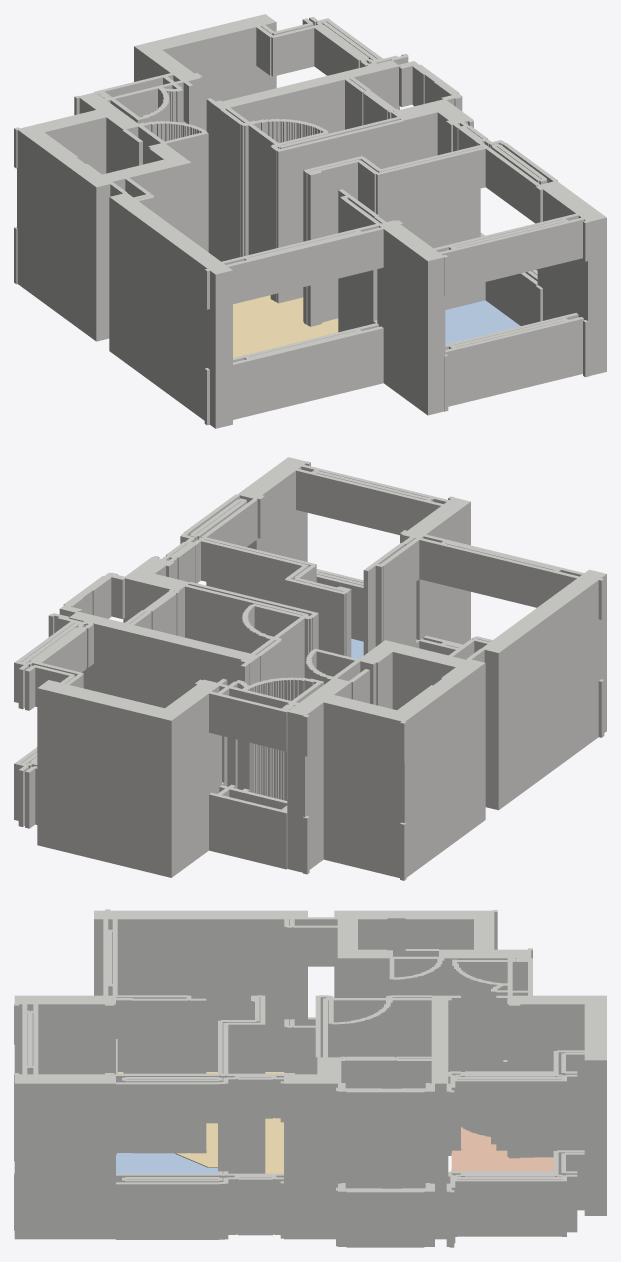
3 renders of one model, top to bottom at view 1: azimuth 30°, elevation 25°; view 2: azimuth 150°, elevation 25°; view 3: azimuth 270°, elevation 25°, orthographic.
Visible parts, largest first — view 1: walls, room:living:2, room:bedroom:1; view 2: walls; view 3: walls, room:kitchen:0, room:living:2, room:bedroom:1.
Boxes of the visible parts, x1,y1,x2,y2 form: walls: [14, 14, 606, 428]; room:living:2: [233, 295, 338, 357]; room:bedroom:1: [445, 300, 520, 344]; walls: [14, 457, 606, 880]; walls: [14, 909, 606, 1247]; room:kitchen:0: [451, 1126, 553, 1171]; room:living:2: [118, 1072, 284, 1174]; room:bedroom:1: [116, 1153, 217, 1173].
Bounding box in the file's own units: 7.07 × 2.8 × 9.68.
